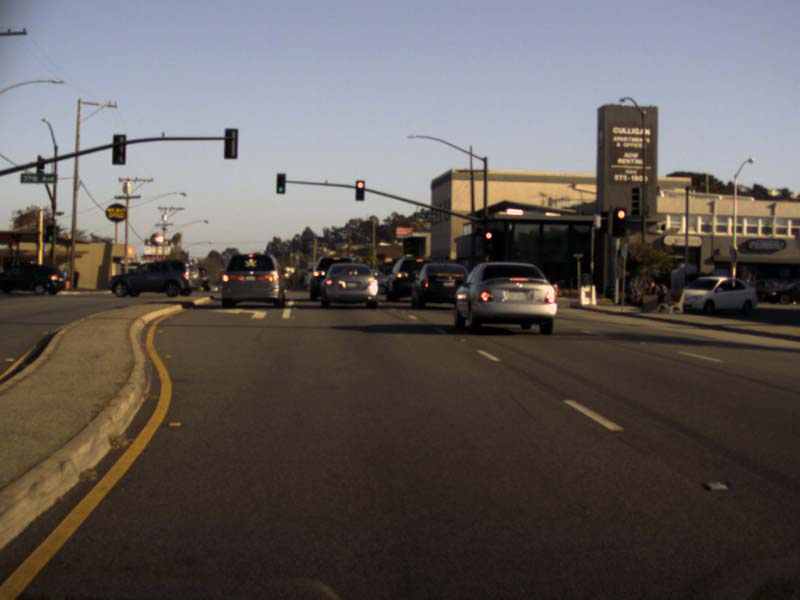Green: (276, 173, 284, 193)
Red: (616, 207, 626, 235), (484, 230, 493, 255), (355, 181, 364, 200)
